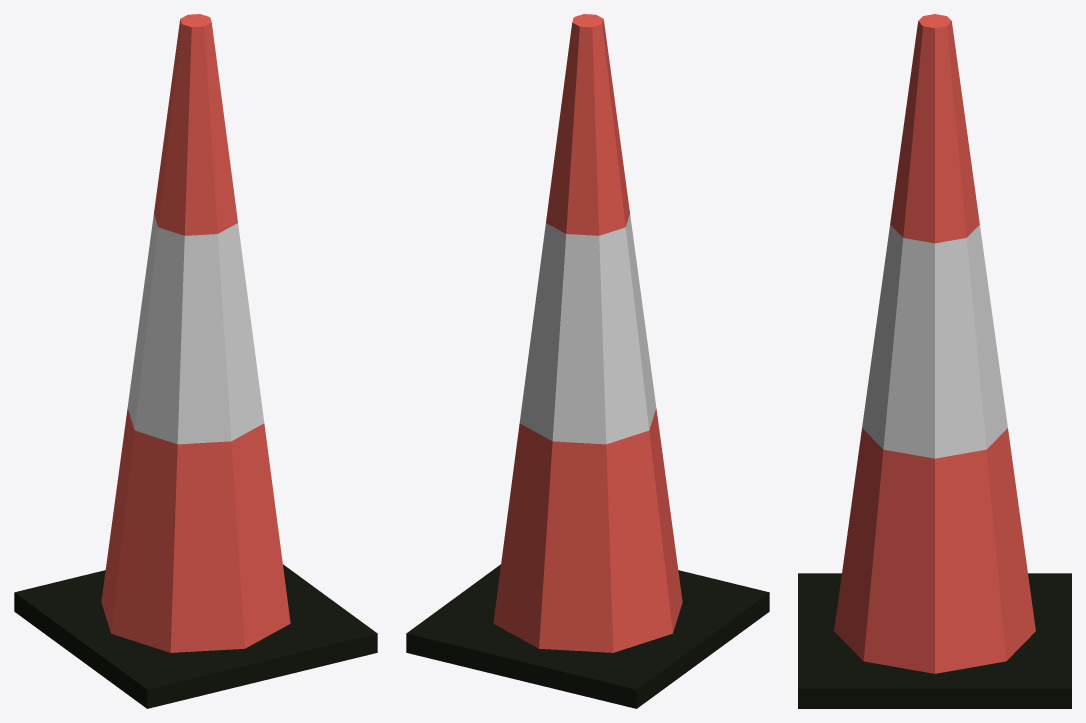
File: TrafficCone.fbx
3 renders of one model, left to right at view 1: azimuth 30°, elevation 25°; view 2: azimuth 150°, elevation 25°; view 3: azimuth 270°, elevation 25°, orthographic. The views are drawn at different scales.
Parts seen in each view (by area): view 1: Traffic_Cone, TrafficCone_Base; view 2: Traffic_Cone, TrafficCone_Base; view 3: Traffic_Cone, TrafficCone_Base.
Boxes of the visible parts, x1,y1,x2,y2 form: Traffic_Cone: (101, 14, 290, 652); TrafficCone_Base: (14, 564, 377, 708); Traffic_Cone: (493, 14, 682, 652); TrafficCone_Base: (406, 564, 769, 708); Traffic_Cone: (834, 14, 1035, 673); TrafficCone_Base: (798, 573, 1071, 708).
Size of the model in its own units: 0.407 by 1.03 by 0.407.
